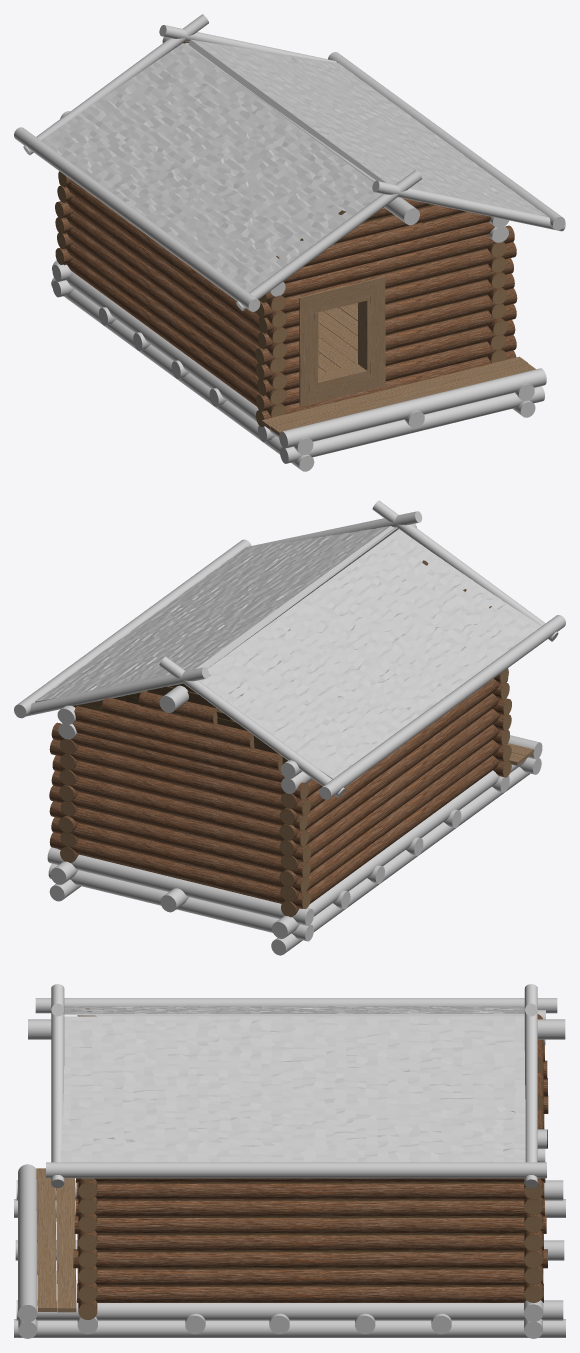
Rendered from banya_LOD1.fbx.
The picture shows the model from 3 angles, top to bottom: view 1: azimuth 30°, elevation 25°; view 2: azimuth 150°, elevation 25°; view 3: azimuth 270°, elevation 25°; orthographic projection. The views are drawn at different scales.
Visible parts, largest first — view 1: Куб.003, Куб.002, Цилиндр.003, Цилиндр.007, Цилиндр, Цилиндр.069, Цилиндр.071, Цилиндр.027, Цилиндр.072, Цилиндр.055, Цилиндр.070, Цилиндр.021 (+30 smaller); view 2: Куб.003, Куб.002, Цилиндр.007, Цилиндр.006, Цилиндр.044, Цилиндр.048, Цилиндр.042, Цилиндр.045, Цилиндр.046, Цилиндр.043, Цилиндр.047, Цилиндр.055 (+19 smaller); view 3: Куб.002, Цилиндр.066, Цилиндр.005, Цилиндр.002, Цилиндр.051, Цилиндр.054, Цилиндр.067, Цилиндр.020, Цилиндр.050, Цилиндр.053, Цилиндр.052, Куб.003 (+18 smaller).
Part boxes in pixels (left/top/right/bottom): Куб.003: left=41, top=43, right=382, bottom=292; Куб.002: left=188, top=39, right=547, bottom=216; Цилиндр.003: left=279, top=368, right=546, bottom=448; Цилиндр.007: left=14, top=127, right=260, bottom=311; Цилиндр: left=280, top=386, right=544, bottom=463; Цилиндр.069: left=66, top=242, right=286, bottom=404; Цилиндр.071: left=66, top=211, right=286, bottom=373; Цилиндр.027: left=260, top=225, right=514, bottom=302; Цилиндр.072: left=67, top=196, right=287, bottom=358; Цилиндр.055: left=52, top=260, right=313, bottom=454; Цилиндр.070: left=67, top=227, right=287, bottom=389; Цилиндр.021: left=67, top=258, right=285, bottom=417; Куб.003: left=199, top=528, right=541, bottom=779; Куб.002: left=35, top=526, right=394, bottom=702; Цилиндр.007: left=319, top=615, right=565, bottom=799; Цилиндр.006: left=47, top=847, right=313, bottom=925; Цилиндр.044: left=49, top=801, right=310, bottom=877; Цилиндр.048: left=49, top=739, right=310, bottom=815; Цилиндр.042: left=49, top=832, right=310, bottom=908; Цилиндр.045: left=49, top=785, right=311, bottom=862; Цилиндр.046: left=51, top=770, right=308, bottom=846; Цилиндр.043: left=51, top=817, right=309, bottom=893; Цилиндр.047: left=52, top=755, right=308, bottom=830; Цилиндр.055: left=272, top=758, right=526, bottom=938; Куб.002: left=60, top=1016, right=525, bottom=1162; Цилиндр.066: left=46, top=1162, right=546, bottom=1178; Цилиндр.005: left=16, top=1300, right=563, bottom=1320; Цилиндр.002: left=14, top=1319, right=565, bottom=1337; Цилиндр.051: left=73, top=1249, right=547, bottom=1268; Цилиндр.054: left=76, top=1197, right=544, bottom=1216; Цилиндр.067: left=76, top=1182, right=544, bottom=1199; Цилиндр.020: left=77, top=1283, right=543, bottom=1302; Цилиндр.050: left=78, top=1268, right=543, bottom=1285; Цилиндр.053: left=74, top=1215, right=546, bottom=1233; Цилиндр.052: left=77, top=1234, right=543, bottom=1250; Куб.003: left=64, top=1005, right=524, bottom=1016.
Bounding box in the file's own units: 4418 × 3294 × 5811.
